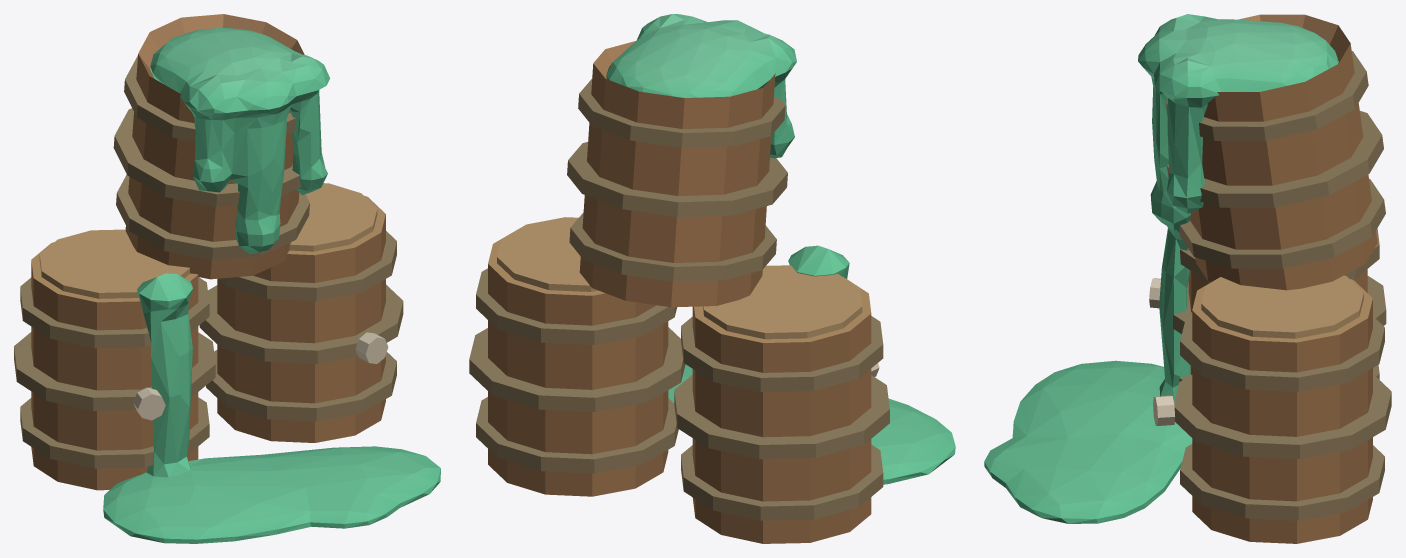
Rendered from ranch_barrel_stack.fbx.
The picture shows the model from 3 angles, left to right: view 1: azimuth 30°, elevation 25°; view 2: azimuth 150°, elevation 25°; view 3: azimuth 270°, elevation 25°; orthographic projection. The views are drawn at different scales.
Parts seen in each view (by area): view 1: ranch_barrel_stack; view 2: ranch_barrel_stack; view 3: ranch_barrel_stack.
Part boxes in pixels (bbox=[...]): ranch_barrel_stack: bbox=[14, 14, 440, 543]; ranch_barrel_stack: bbox=[469, 14, 955, 543]; ranch_barrel_stack: bbox=[984, 14, 1391, 543].
Size of the model in its own units: 5.17 by 5.37 by 4.67.
